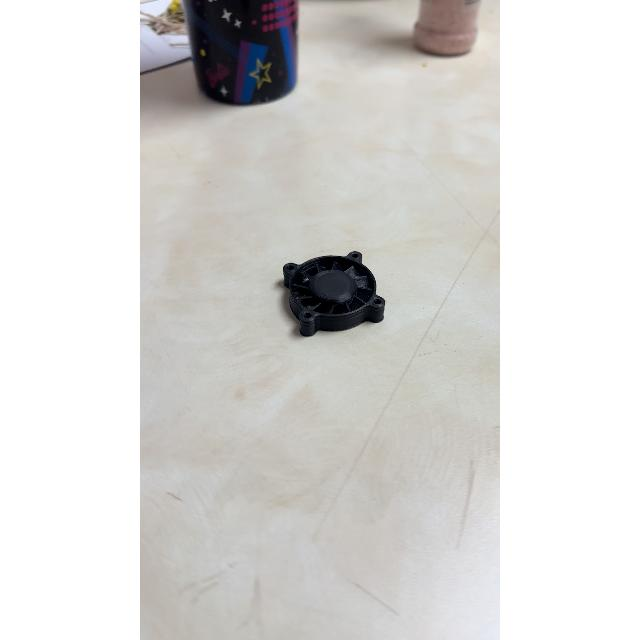Pieza_4: (247, 234, 428, 370)
